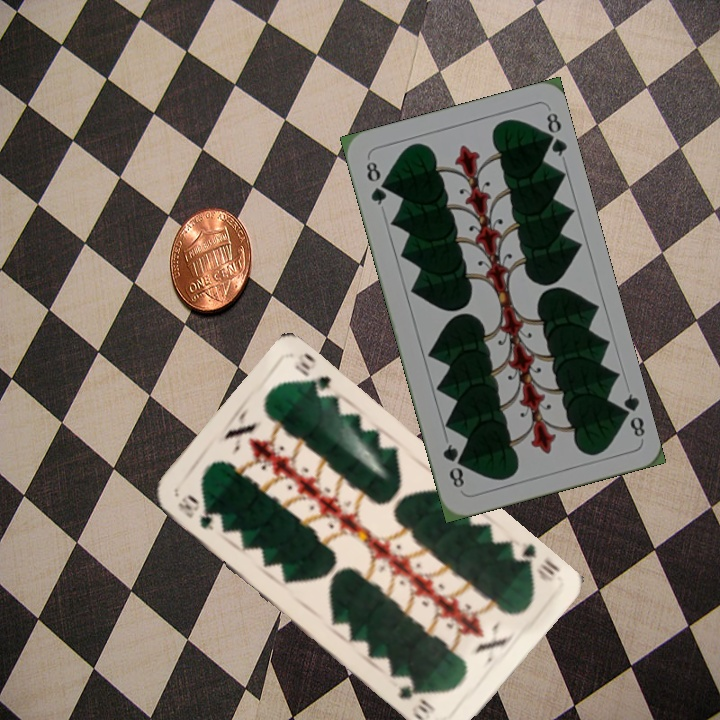G10: (507, 539, 563, 585), (173, 491, 217, 534)
G8: (613, 389, 648, 440), (362, 157, 390, 208)
